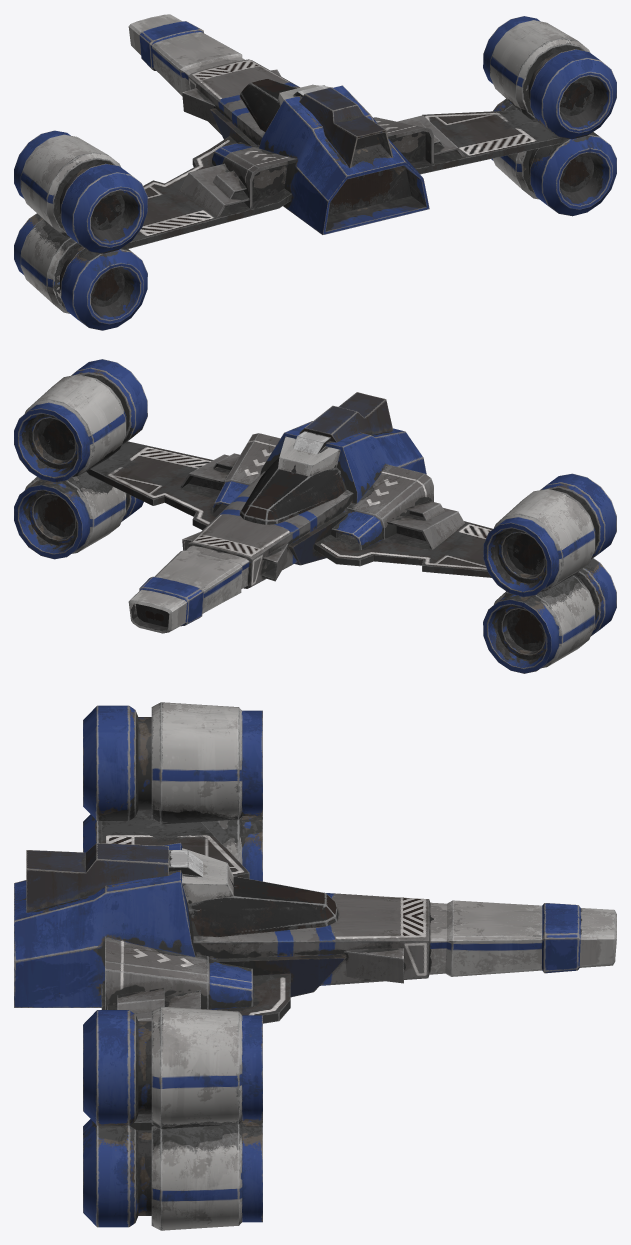
File: flight-ship.glb
3 renders of one model, top to bottom at view 1: azimuth 30°, elevation 25°; view 2: azimuth 150°, elevation 25°; view 3: azimuth 270°, elevation 25°, orthographic. The views are drawn at different scales.
Parts seen in each view (by area): view 1: Spitfire; view 2: Spitfire; view 3: Spitfire.
Boxes of the visible parts, x1,y1,x2,y2 form: Spitfire: [14, 14, 616, 330]; Spitfire: [14, 359, 616, 673]; Spitfire: [14, 702, 616, 1230].
Bounding box in the file's own units: 10.52 × 3.06 × 7.53.
1 material, 1 textured.
